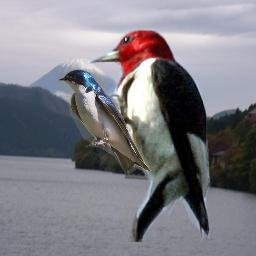Swallow: (58, 69, 152, 173)
Woodpecker: (85, 28, 213, 242)
